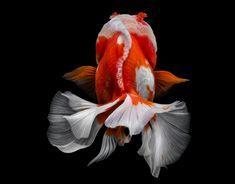goldfish: (88, 7, 164, 146)
